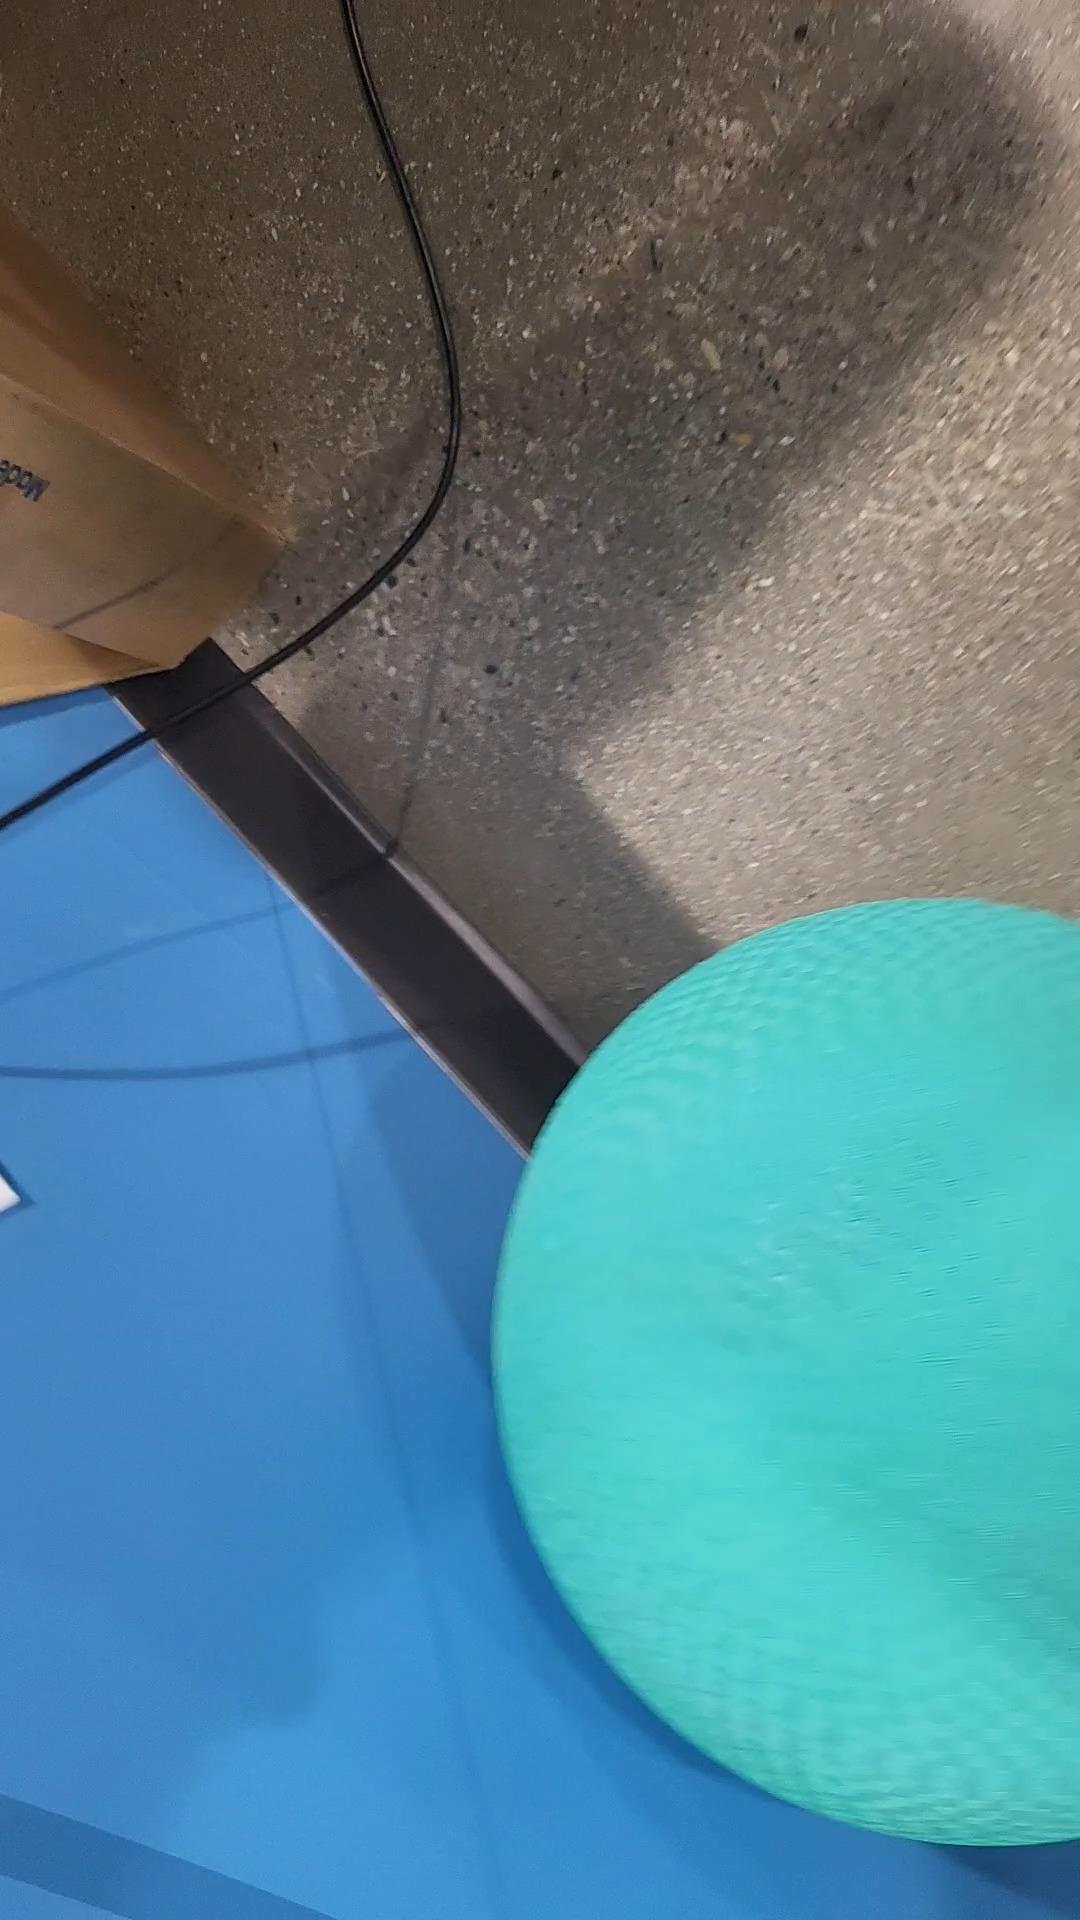algae: (492, 899, 1080, 1853)
